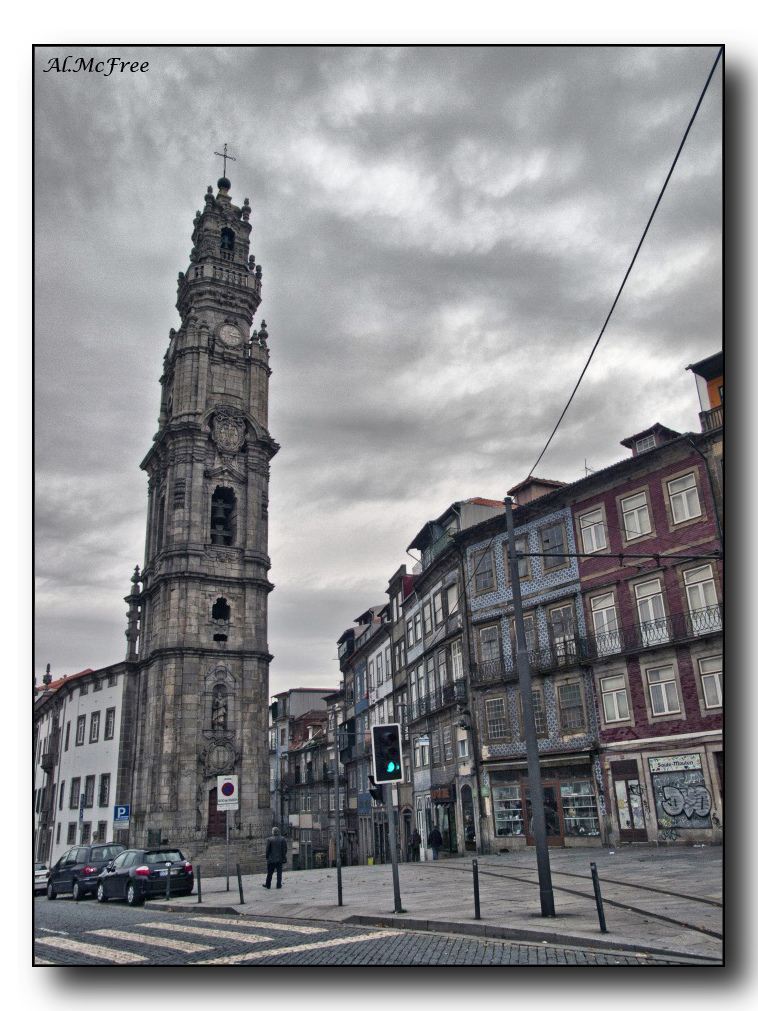clerigos: (123, 142, 282, 863)
